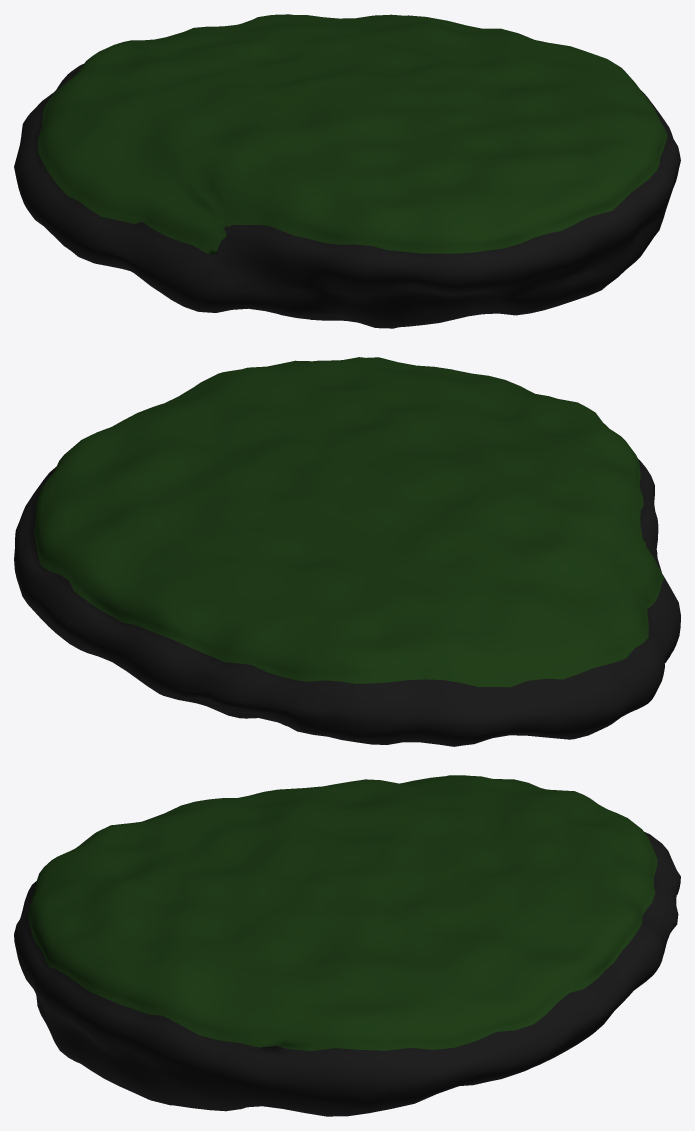
The model's file is grass_1.fbx.
3 views of the same model, one above another, from view 1: azimuth 30°, elevation 25°; view 2: azimuth 150°, elevation 25°; view 3: azimuth 270°, elevation 25° (orthographic). The views are drawn at different scales.
Parts seen in each view (by area): view 1: Retopo_rock; view 2: Retopo_rock; view 3: Retopo_rock.
Part boxes in pixels (x1=…): Retopo_rock: x1=14, y1=14, x2=680, y2=328; Retopo_rock: x1=14, y1=357, x2=680, y2=746; Retopo_rock: x1=14, y1=775, x2=680, y2=1116.
Bounding box in the file's own units: 513 × 132 × 502.
